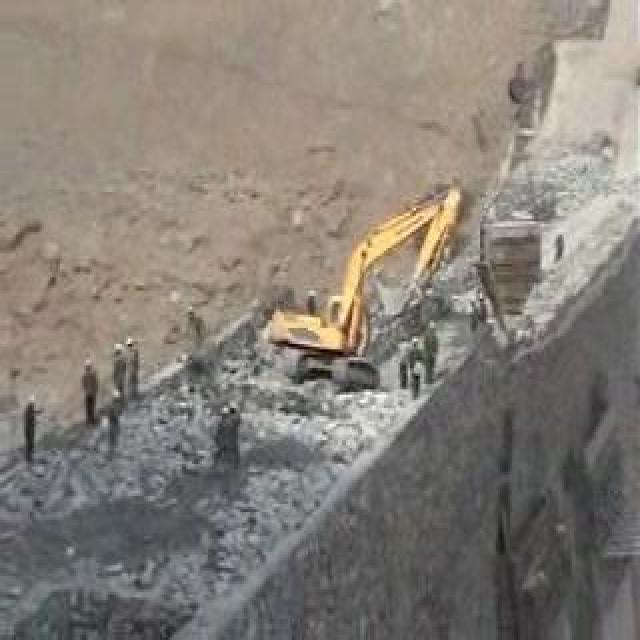excavator: (255, 177, 471, 404)
